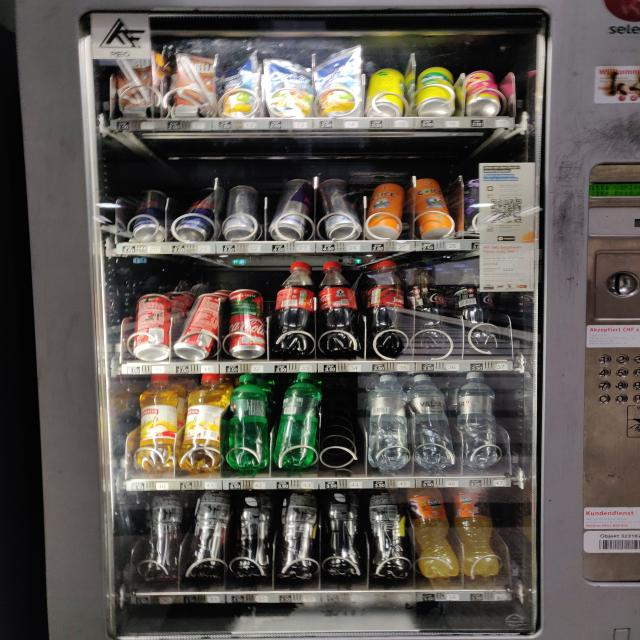c-swiss_dosenabisicetea__33_: (368, 182, 408, 240), (414, 178, 452, 238)
caprisun_multivitamin__20__4000177605004: (316, 43, 366, 116), (265, 55, 316, 118), (219, 49, 262, 118)
coke__dose_33__54491472: (173, 292, 221, 360), (132, 294, 174, 360), (225, 289, 263, 357)
coke__flasche_50__54491472: (367, 260, 412, 356), (275, 259, 318, 358), (321, 260, 362, 356)
coke_zero_flasche_50__5449000131836: (456, 260, 506, 355), (412, 261, 450, 357)
comella_schokodrink__33__7613100037253: (170, 54, 218, 118)
fanta___50__40822938: (413, 488, 456, 576), (458, 488, 494, 576)
fuse_lemon__50__5449000235947: (276, 489, 322, 580), (369, 490, 411, 580), (326, 488, 364, 578)
fuse_lemon_dose_33__5449000235947: (367, 66, 408, 117), (418, 65, 457, 117)
fuse_peach__50__5449000236623: (136, 488, 187, 584), (187, 489, 232, 580), (232, 491, 274, 579)
ramseier_schorle__50__7610057012456: (130, 375, 182, 472), (180, 375, 228, 471)
redbull___33__90162909: (272, 176, 318, 241), (318, 177, 362, 240), (126, 189, 171, 243), (175, 186, 218, 242), (224, 182, 260, 239)
tiki_himbeerbrause_dose_33_1_: (468, 65, 498, 116)
valser_classic__50__76404160: (270, 372, 322, 469), (225, 374, 270, 470)
valser_still__50__7610335002575: (460, 373, 505, 471), (408, 374, 453, 468), (367, 373, 409, 469)
